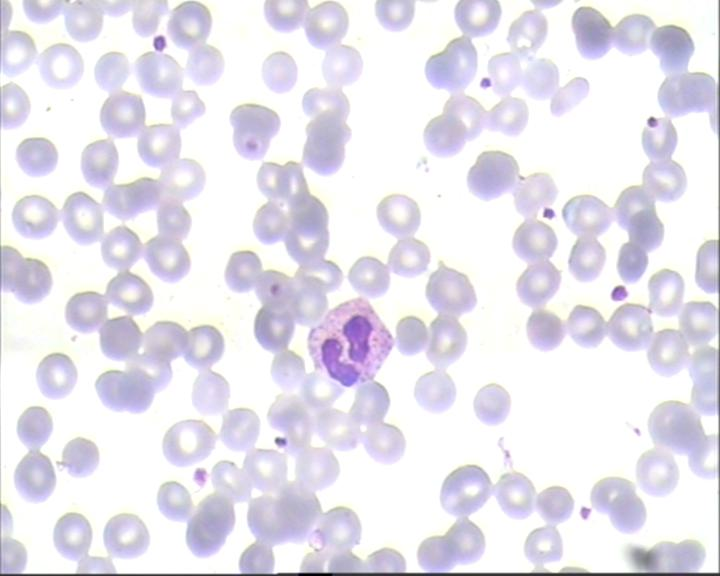neut: (302, 295, 396, 388)
